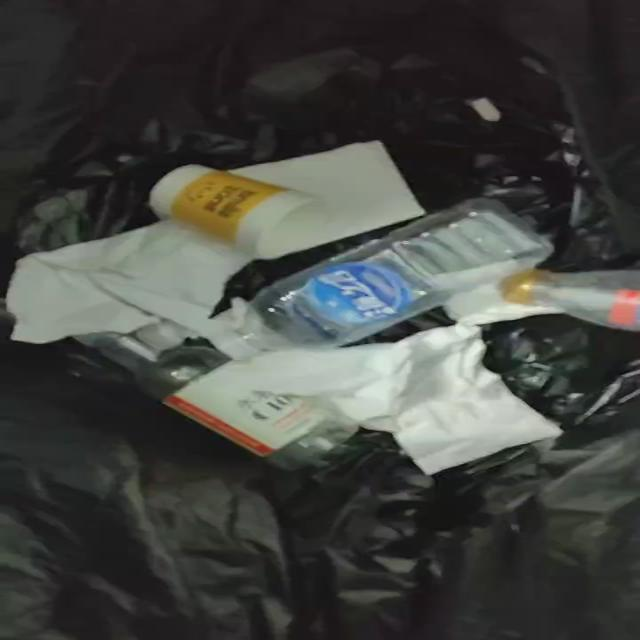bottle: (211, 198, 553, 359), (82, 335, 358, 468), (501, 270, 639, 331)
dixie_cup: (149, 166, 320, 258)
paper: (220, 324, 560, 475), (6, 221, 249, 344), (231, 141, 424, 247), (434, 260, 564, 325)
